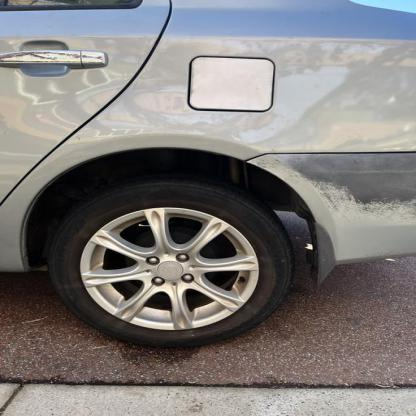Tire: (50, 181, 298, 352)
